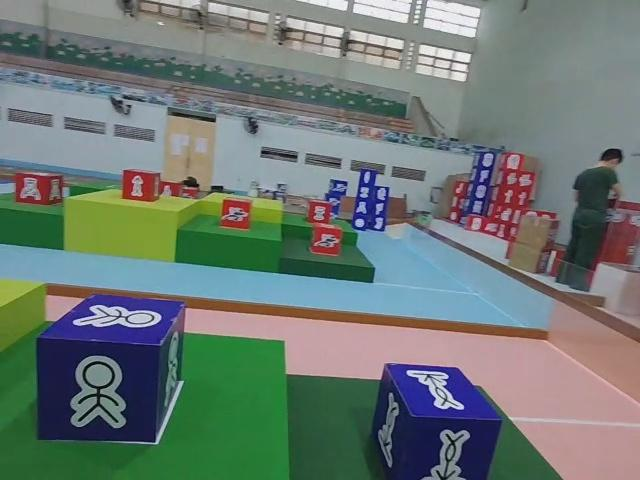R2 Real Blue: (35, 296, 187, 448), (369, 359, 500, 480)
